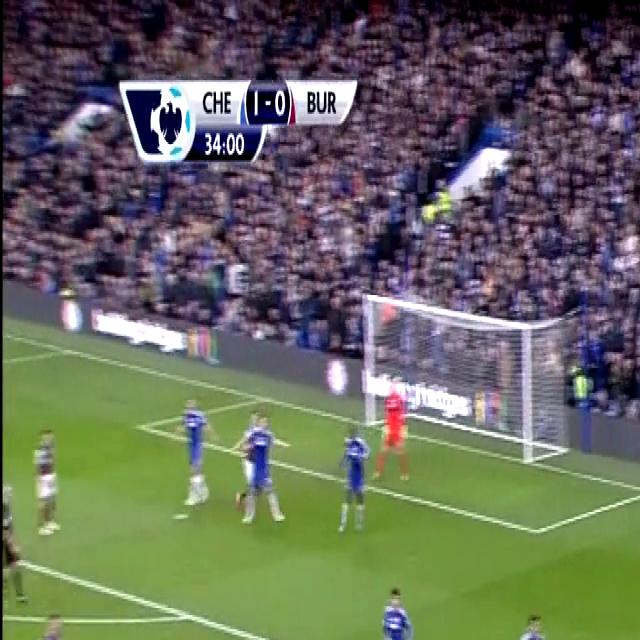goalkeeper: (378, 366, 414, 500)
soccer-player: (234, 392, 292, 542), (170, 383, 216, 523), (330, 414, 375, 542), (26, 407, 66, 545), (0, 463, 30, 601), (370, 567, 425, 640), (26, 594, 73, 640), (506, 595, 552, 640)
